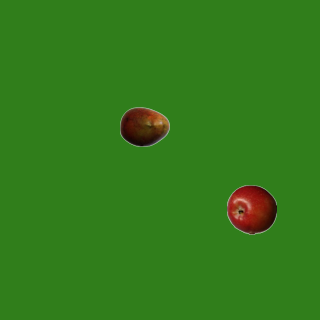Apple Braeburn: (226, 184, 276, 234)
Mango Red: (119, 101, 169, 151)
